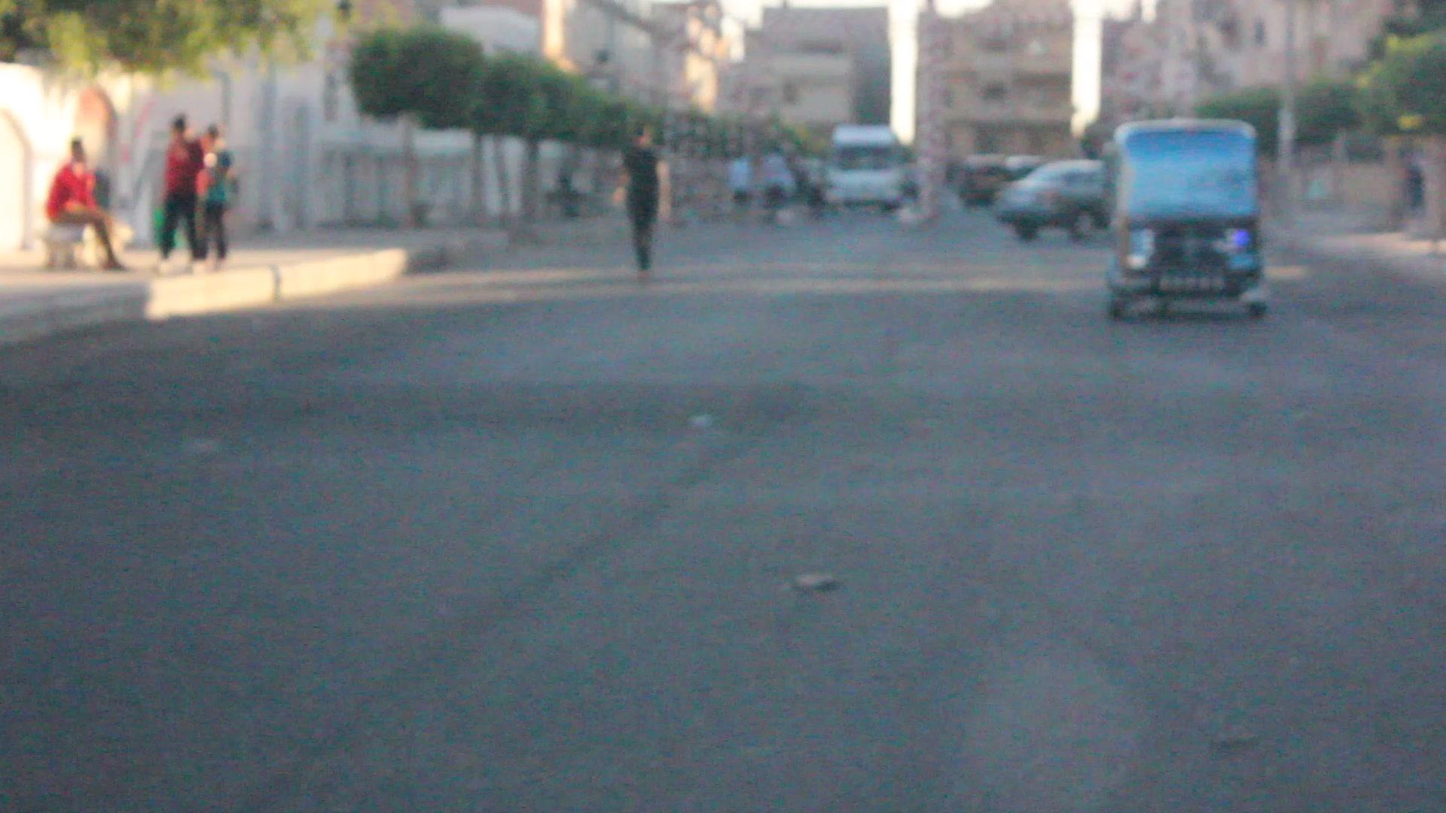Bump: (11, 336, 1445, 434)
